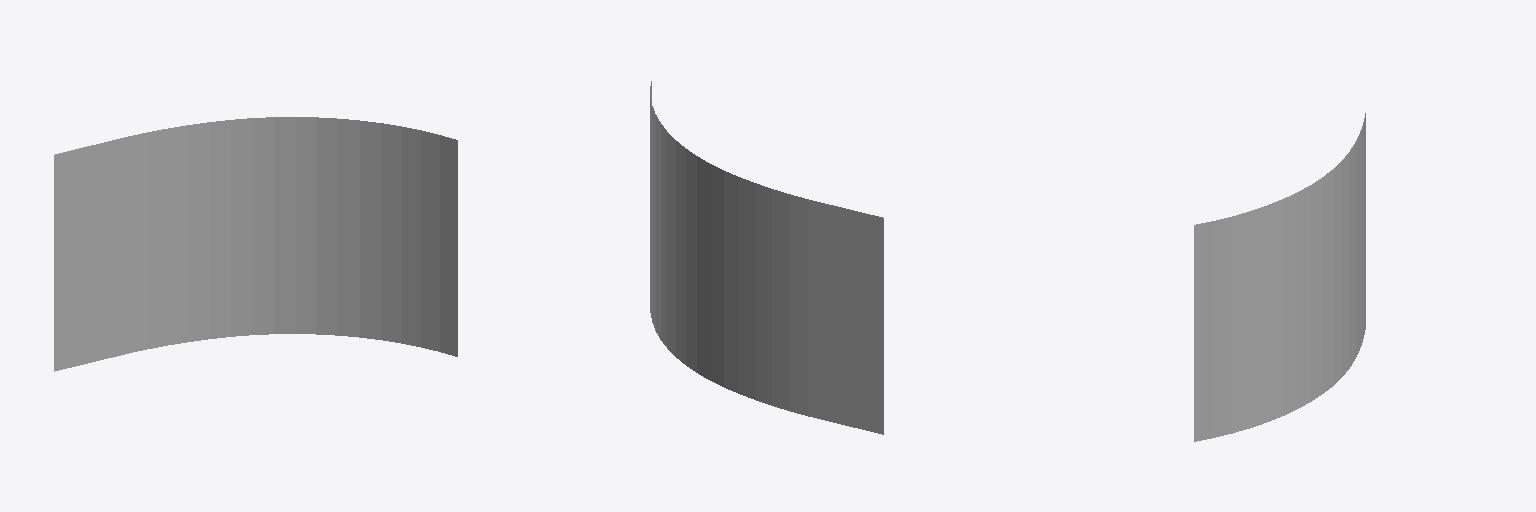
File: Screen_3.obj
The picture shows the model from 3 angles: view 1: azimuth 30°, elevation 25°; view 2: azimuth 150°, elevation 25°; view 3: azimuth 270°, elevation 25°; orthographic projection.
Visible parts, largest first — view 1: stage1_3_feed; view 2: stage1_3_feed; view 3: stage1_3_feed.
Boxes of the visible parts, x1,y1,x2,y2 form: stage1_3_feed: [54, 117, 457, 371]; stage1_3_feed: [650, 81, 883, 434]; stage1_3_feed: [1194, 113, 1365, 441].
Bounding box in the file's own units: 8.42 × 5.5 × 3.96.